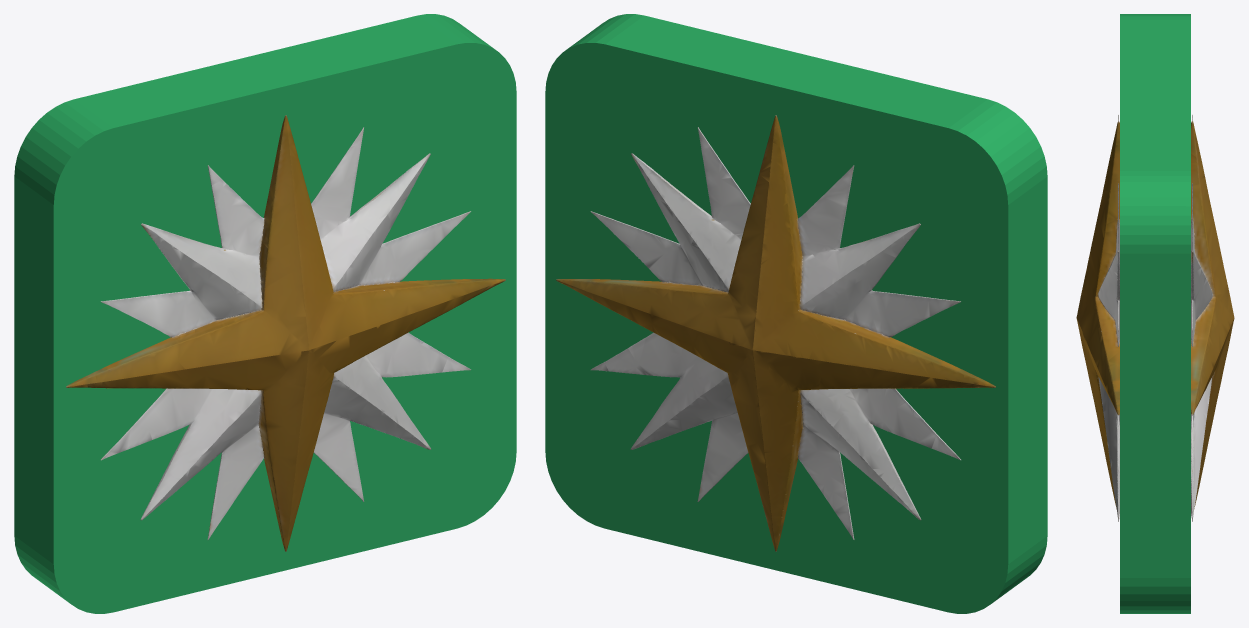
Rendered from estrella.glb.
The picture shows the model from 3 angles, left to right: view 1: azimuth 30°, elevation 25°; view 2: azimuth 150°, elevation 25°; view 3: azimuth 270°, elevation 25°; orthographic projection. The views are drawn at different scales.
Visible parts, largest first — view 1: Cube.001; view 2: Cube.001; view 3: Cube.001.
Part boxes in pixels (x1=…): Cube.001: x1=14, y1=14, x2=516, y2=613; Cube.001: x1=545, y1=14, x2=1047, y2=613; Cube.001: x1=1076, y1=14, x2=1234, y2=613.
Size of the model in its own units: 2 by 2 by 0.6554.
Materials: 3 (2 with a texture image).
